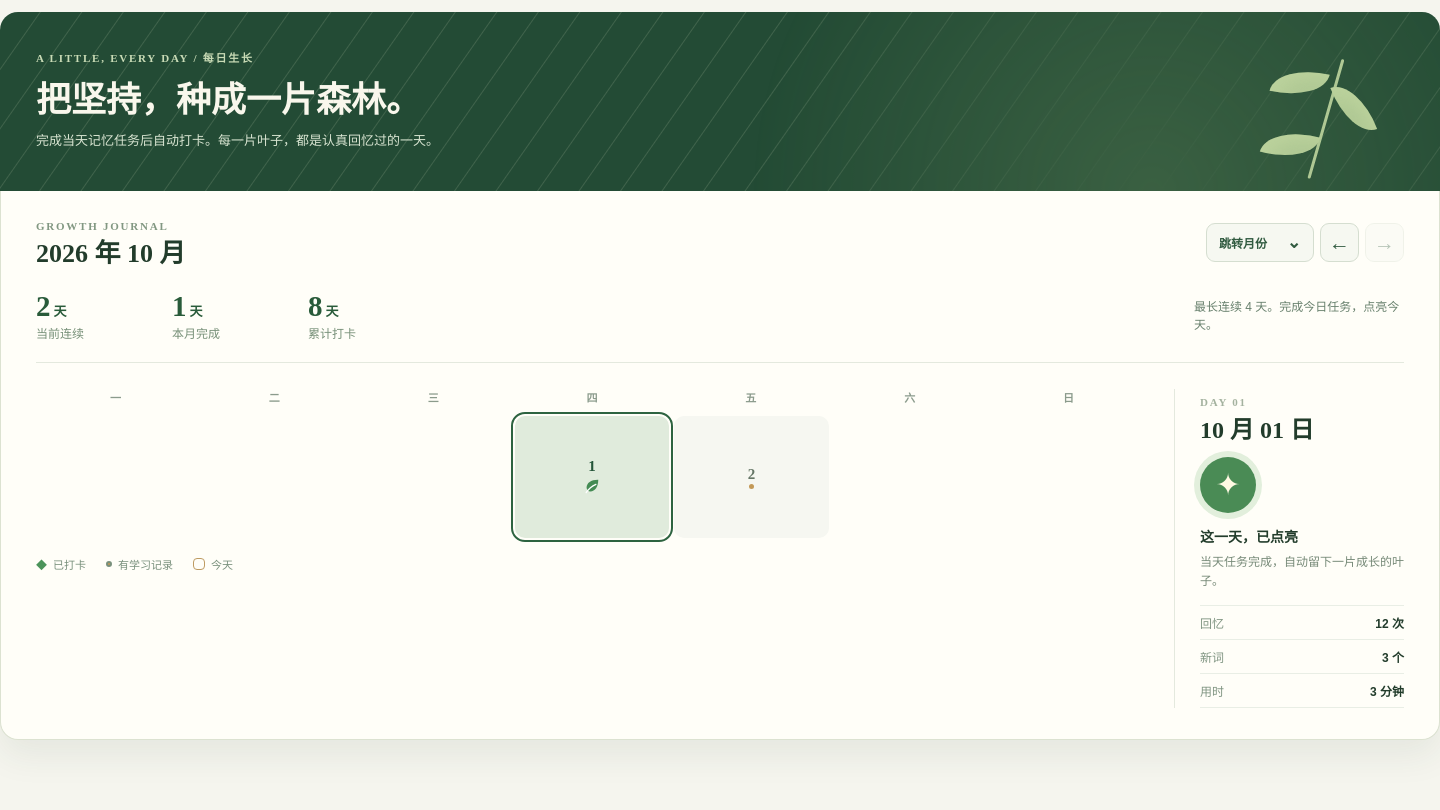
growth calendar › shows saved check-ins separately from incomplete practice and browses months
This screenshot has width=1440, height=810.
Check: the element with class "growth-stats" shows "2天", box [36,286,1404,364]
Check: the number of buttons with class "checked" is 1, box [515,416,669,538]
Click the button named "上个月" at (1340, 243), box [1320,223,1359,262]
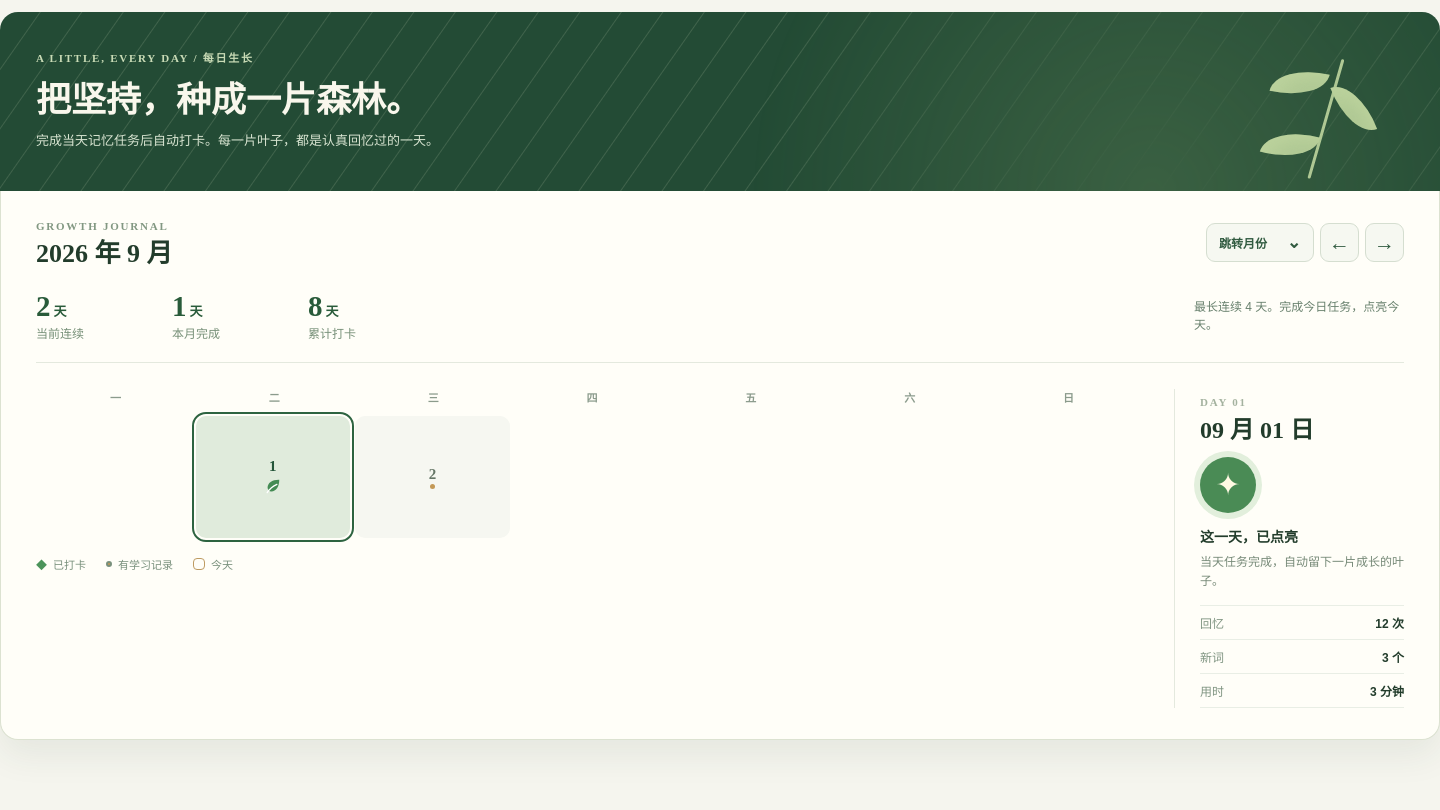
Check: the heading "2026 年 9 月" is shown, box [36,238,172,270]
